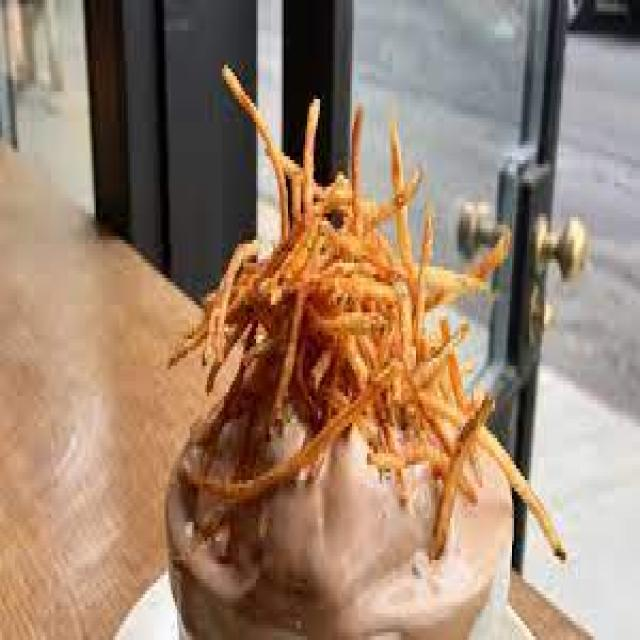Fries: (189, 121, 555, 519)
